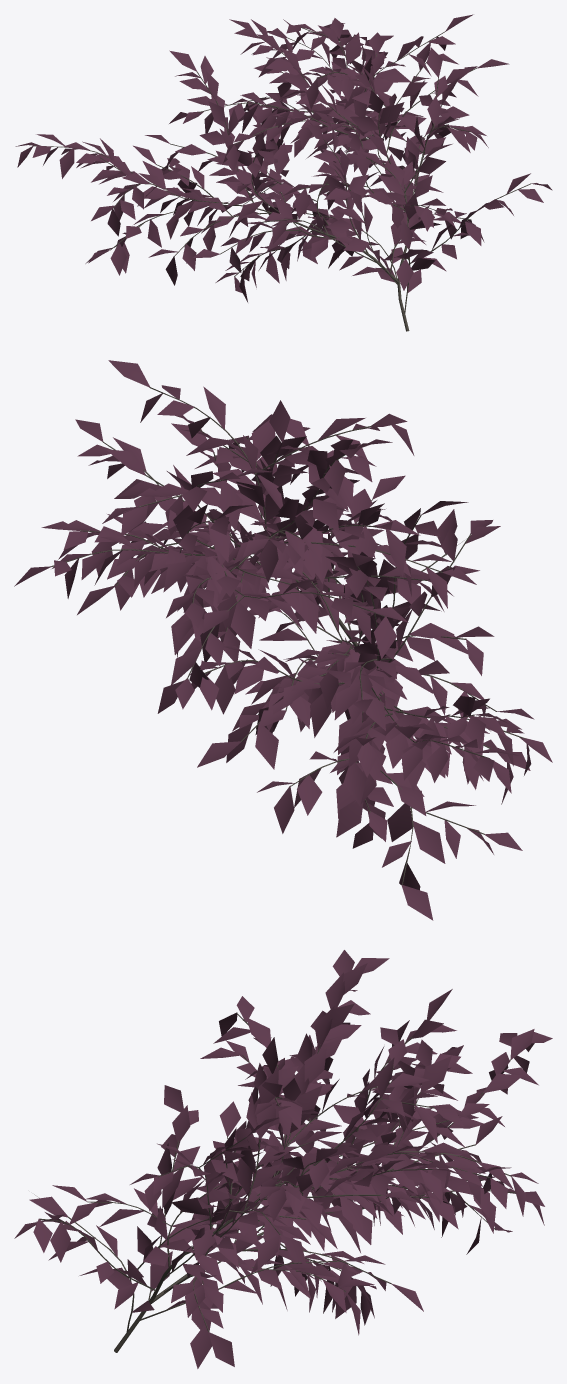
The model's file is Tree 9.glb.
The picture shows the model from 3 angles, top to bottom: view 1: azimuth 30°, elevation 25°; view 2: azimuth 150°, elevation 25°; view 3: azimuth 270°, elevation 25°; orthographic projection. The views are drawn at different scales.
Visible parts, largest first — view 1: Tree_Prunus-cerasifera_A_summer.006; view 2: Tree_Prunus-cerasifera_A_summer.006; view 3: Tree_Prunus-cerasifera_A_summer.006.
Boxes of the visible parts, box(x1,y1,x2,y2) form: Tree_Prunus-cerasifera_A_summer.006: box(15, 14, 552, 331); Tree_Prunus-cerasifera_A_summer.006: box(14, 360, 552, 920); Tree_Prunus-cerasifera_A_summer.006: box(14, 950, 552, 1368).
Size of the model in its own units: 2.52 by 1.68 by 2.24.
